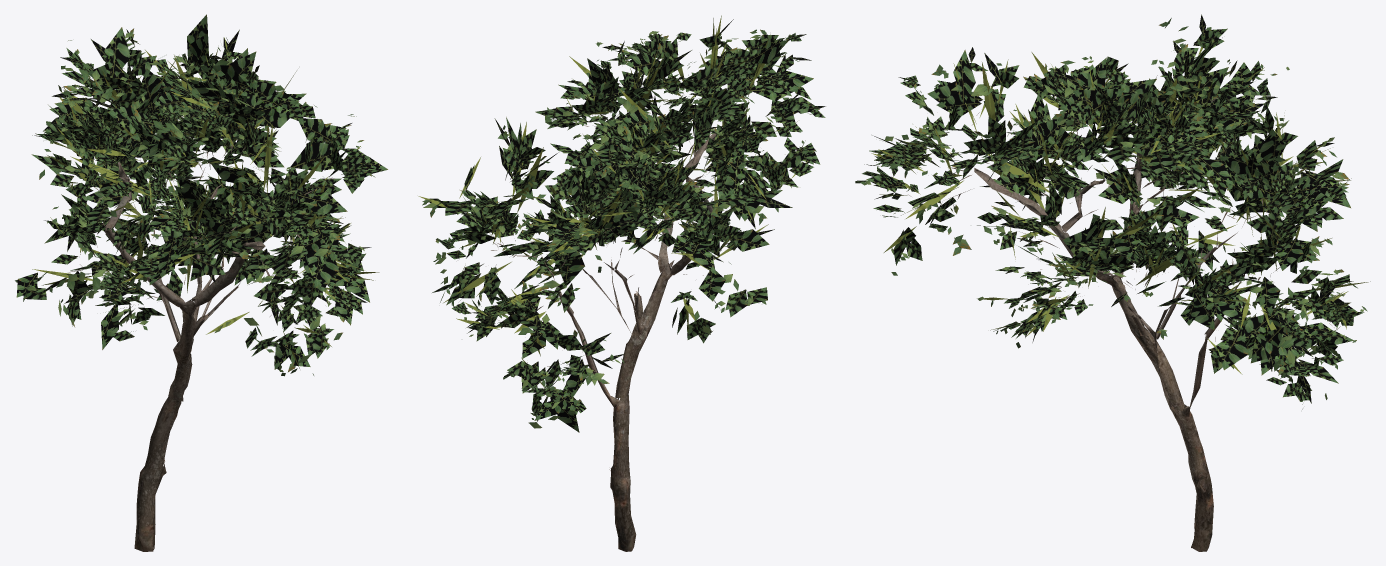
The model's file is tree_small_02-mid.glb.
The picture shows the model from 3 angles, left to right: view 1: azimuth 30°, elevation 25°; view 2: azimuth 150°, elevation 25°; view 3: azimuth 270°, elevation 25°; orthographic projection. The views are drawn at different scales.
Parts seen in each view (by area): view 1: tree_small_02_mid; view 2: tree_small_02_mid; view 3: tree_small_02_mid.
Boxes of the visible parts, box(x1,y1,x2,y2) form: tree_small_02_mid: box(15, 14, 387, 551); tree_small_02_mid: box(418, 15, 825, 551); tree_small_02_mid: box(855, 14, 1370, 551).
Size of the model in its own units: 0.6438 by 1 by 0.9352.
3 materials, 3 textured.
